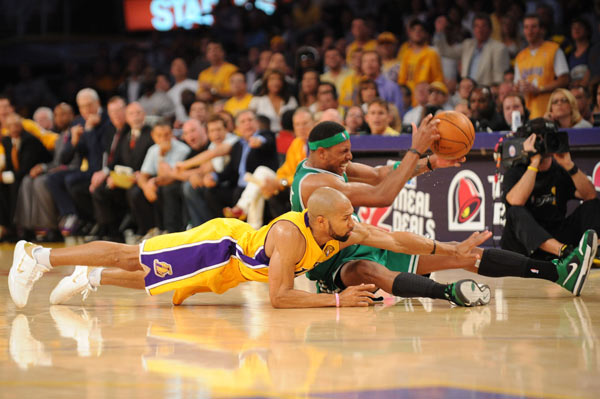10+: (1, 1, 600, 399)
down: (1, 175, 497, 318), (289, 125, 600, 306)
